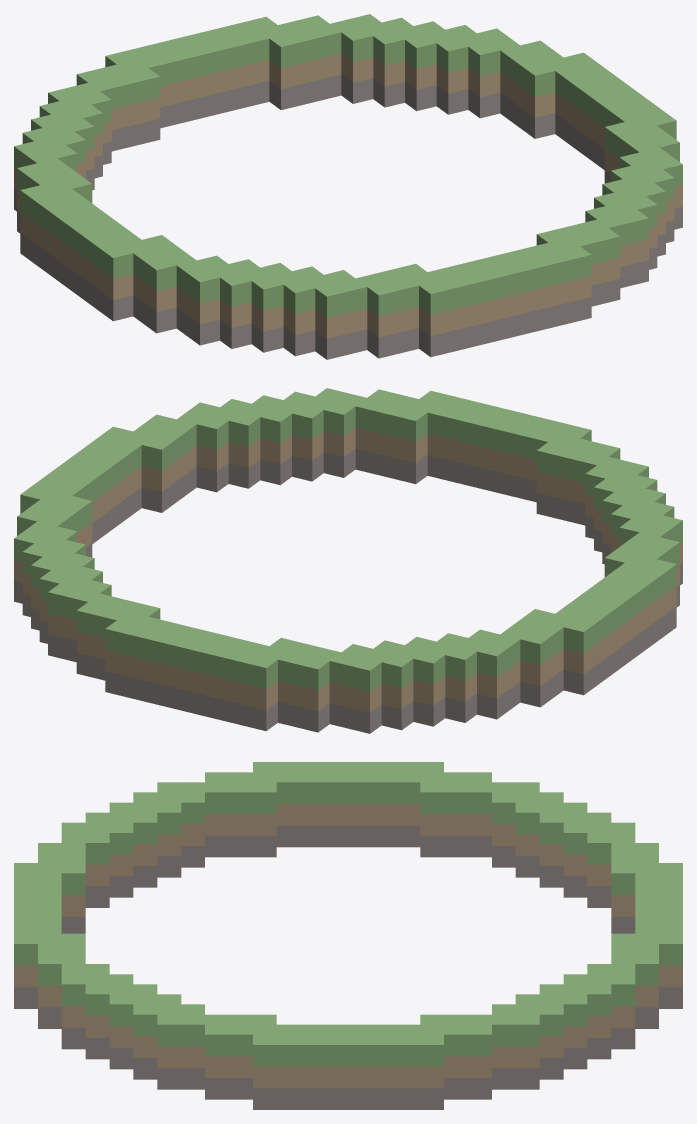
File: arene_6.glb
The picture shows the model from 3 angles, top to bottom: view 1: azimuth 30°, elevation 25°; view 2: azimuth 150°, elevation 25°; view 3: azimuth 270°, elevation 25°; orthographic projection. The views are drawn at different scales.
Visible parts, largest first — view 1: geometry_0; view 2: geometry_0; view 3: geometry_0.
Boxes of the visible parts, x1,y1,x2,y2 form: geometry_0: [14, 14, 682, 359]; geometry_0: [14, 388, 682, 733]; geometry_0: [14, 762, 682, 1109].
Size of the model in its own units: 14 by 1.5 by 14.
